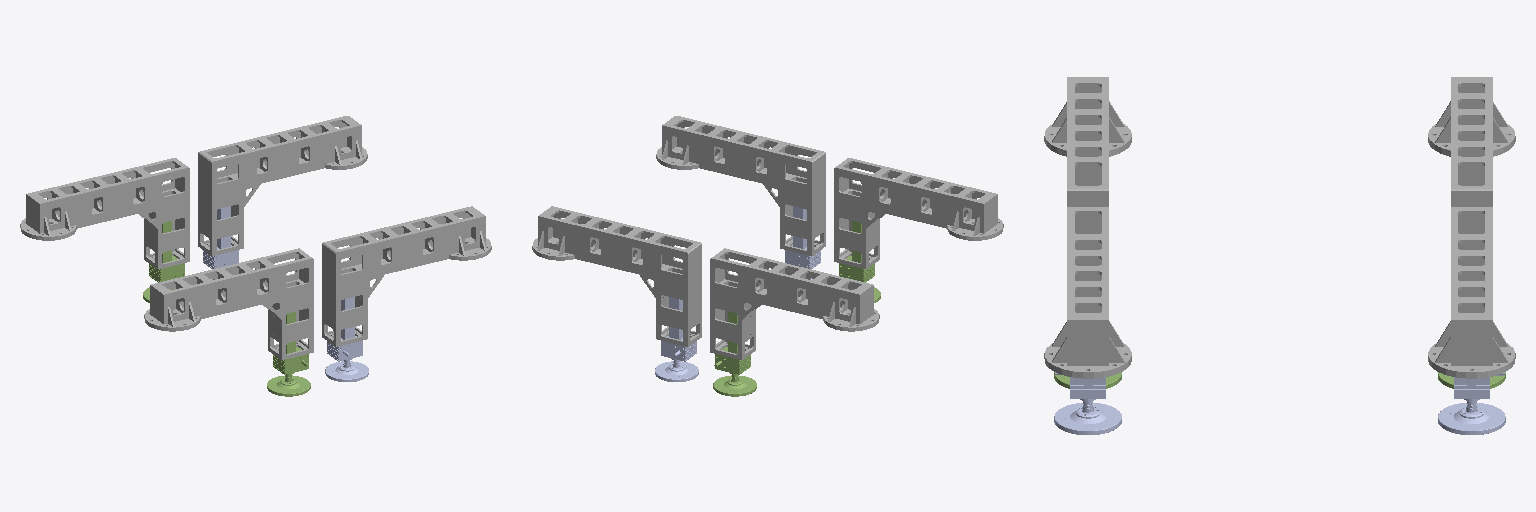
The robot description file, URDF, robot "legs":
<?xml version="1.0" encoding="utf-8"?>
<!-- This URDF was automatically created by SolidWorks to URDF Exporter! Originally created by [author] ([email redacted]) 
     Commit Version: 1.6.0-4-g7f85cfe  Build Version: 1.6.7995.38578
     For more information, please see http://wiki.ros.org/sw_urdf_exporter -->
<robot
  name="legs">
  
<link
    name="base_link">
    <inertial>
      <origin
        xyz="-0.0149529928295683 -4.94322252418334E-06 0.222184832094901"
        rpy="0 0 0" />
      <mass
        value="519.383596577394" />
      <inertia
        ixx="110.386178303131"
        ixy="-0.0315927825227971"
        ixz="-0.0344955769853279"
        iyy="133.908938189479"
        iyz="0.000418959728531496"
        izz="239.374249509396" />
    </inertial>
    <visual>
      <origin
        xyz="0 0 0"
        rpy="0 0 0" />
      <geometry>
        <mesh
          filename="package://legs/meshes/base_link.STL" />
      </geometry>
      <material
        name="">
        <color
          rgba="0.776470588235294 0.756862745098039 0.737254901960784 1" />
      </material>
    </visual>
    <collision>
      <origin
        xyz="0 0 0"
        rpy="0 0 0" />
      <geometry>
        <mesh
          filename="package://legs/meshes/base_link.STL" />
      </geometry>
    </collision>
  </link>
  
<link
    name="front_left_leg_link">
    <inertial>
      <origin
        xyz="0.32094 0 0.034985"
        rpy="0 0 0" />
      <mass
        value="60.511" />
      <inertia
        ixx="0.40429"
        ixy="6.821E-16"
        ixz="0.26264"
        iyy="2.5946"
        iyz="-4.813E-16"
        izz="2.3511" />
    </inertial>
    <visual>
      <origin
        xyz="0 0 0"
        rpy="0 0 0" />
      <geometry>
        <mesh
          filename="package://legs/meshes/front_left_leg_link.STL" />
      </geometry>
      <material
        name="">
        <color
          rgba="0.75294 0.75294 0.75294 1" />
      </material>
    </visual>
    <collision>
      <origin
        xyz="0 0 0"
        rpy="0 0 0" />
      <geometry>
        <mesh
          filename="package://legs/meshes/front_left_leg_link.STL" />
      </geometry>
    </collision>
  </link>
  <joint
    name="front_left_leg_joint"
    type="revolute">
    <origin
      xyz="0.765 0.565 0.44022"
      rpy="0 0 3.1416" />
    <parent
      link="base_link" />
    <child
      link="front_left_leg_link" />
    <axis
      xyz="0 0 -1" />
    <limit
      lower="0"
      upper="0"
      effort="0"
      velocity="0" />
  </joint>
  
<link
    name="foot_1_link">
    <inertial>
      <origin
        xyz="-0.00011337 0.0019926 -0.056864"
        rpy="0 0 0" />
      <mass
        value="6.1757" />
      <inertia
        ixx="0.022142"
        ixy="2.5594E-05"
        ixz="2.6775E-05"
        iyy="0.021666"
        iyz="-0.00046942"
        izz="0.022007" />
    </inertial>
    <visual>
      <origin
        xyz="0 0 0"
        rpy="0 0 0" />
      <geometry>
        <mesh
          filename="package://legs/meshes/foot_1_link.STL" />
      </geometry>
      <material
        name="">
        <color
          rgba="0.79216 0.81961 0.93333 1" />
      </material>
    </visual>
    <collision>
      <origin
        xyz="0 0 0"
        rpy="0 0 0" />
      <geometry>
        <mesh
          filename="package://legs/meshes/foot_1_link.STL" />
      </geometry>
    </collision>
  </link>
  <joint
    name="foot_1_joint"
    type="fixed">
    <origin
      xyz="0.6115 0 -0.4835"
      rpy="-3.1416 0 1.5708" />
    <parent
      link="front_left_leg_link" />
    <child
      link="foot_1_link" />
    <axis
      xyz="0 0 0" />
  </joint>
  
<link
    name="front_right_leg_link">
    <inertial>
      <origin
        xyz="0.320943732035819 1.11022302462516E-16 0.0349852046777499"
        rpy="0 0 0" />
      <mass
        value="60.511050499483" />
      <inertia
        ixx="0.404285007076848"
        ixy="6.3097142068649E-16"
        ixz="0.262642500441646"
        iyy="2.59463508208987"
        iyz="-2.6694781753163E-16"
        izz="2.35111382763765" />
    </inertial>
    <visual>
      <origin
        xyz="0 0 0"
        rpy="0 0 0" />
      <geometry>
        <mesh
          filename="package://legs/meshes/front_right_leg_link.STL" />
      </geometry>
      <material
        name="">
        <color
          rgba="0.752941176470588 0.752941176470588 0.752941176470588 1" />
      </material>
    </visual>
    <collision>
      <origin
        xyz="0 0 0"
        rpy="0 0 0" />
      <geometry>
        <mesh
          filename="package://legs/meshes/front_right_leg_link.STL" />
      </geometry>
    </collision>
  </link>
  <joint
    name="front_right_leg_joint"
    type="revolute">
    <origin
      xyz="0.765 -0.565 0.44022"
      rpy="0 0 3.1416" />
    <parent
      link="base_link" />
    <child
      link="front_right_leg_link" />
    <axis
      xyz="0 0 -1" />
    <limit
      lower="0"
      upper="0"
      effort="0"
      velocity="0" />
  </joint>
  
<link
    name="foot_2_link">
    <inertial>
      <origin
        xyz="0.000109885359919293 0.00199030442674109 -0.0568593956323489"
        rpy="0 0 0" />
      <mass
        value="6.17537867913467" />
      <inertia
        ixx="0.0221414167969365"
        ixy="-2.48142019142283E-05"
        ixz="-2.58391885668568E-05"
        iyy="0.0216642635526054"
        iyz="-0.000468899134997834"
        izz="0.0220052308237161" />
    </inertial>
    <visual>
      <origin
        xyz="0 0 0"
        rpy="0 0 0" />
      <geometry>
        <mesh
          filename="package://legs/meshes/foot_2_link.STL" />
      </geometry>
      <material
        name="">
        <color
          rgba="0.792156862745098 0.819607843137255 0.933333333333333 1" />
      </material>
    </visual>
    <collision>
      <origin
        xyz="0 0 0"
        rpy="0 0 0" />
      <geometry>
        <mesh
          filename="package://legs/meshes/foot_2_link.STL" />
      </geometry>
    </collision>
  </link>
  <joint
    name="foot_2_joint"
    type="fixed">
    <origin
      xyz="0.6115 0 -0.4835"
      rpy="3.1416 0 1.5708" />
    <parent
      link="front_right_leg_link" />
    <child
      link="foot_2_link" />
    <axis
      xyz="0 0 0" />
  </joint>
  
<link
    name="back_left_leg_link">
    <inertial>
      <origin
        xyz="0.320943732035819 -1.11022302462516E-16 0.0349852046777496"
        rpy="0 0 0" />
      <mass
        value="60.511050499483" />
      <inertia
        ixx="0.404285007076847"
        ixy="2.19636477560839E-16"
        ixz="0.262642500441646"
        iyy="2.59463508208987"
        iyz="-3.13597282038453E-16"
        izz="2.35111382763765" />
    </inertial>
    <visual>
      <origin
        xyz="0 0 0"
        rpy="0 0 0" />
      <geometry>
        <mesh
          filename="package://legs/meshes/back_left_leg_link.STL" />
      </geometry>
      <material
        name="">
        <color
          rgba="0.752941176470588 0.752941176470588 0.752941176470588 1" />
      </material>
    </visual>
    <collision>
      <origin
        xyz="0 0 0"
        rpy="0 0 0" />
      <geometry>
        <mesh
          filename="package://legs/meshes/back_left_leg_link.STL" />
      </geometry>
    </collision>
  </link>
  <joint
    name="back_left_leg_joint"
    type="revolute">
    <origin
      xyz="-0.765 0.565 0.44022"
      rpy="0 0 0" />
    <parent
      link="base_link" />
    <child
      link="back_left_leg_link" />
    <axis
      xyz="0 0 -1" />
    <limit
      lower="0"
      upper="0"
      effort="0"
      velocity="0" />
  </joint>
  
<link
    name="foot_3_link">
    <inertial>
      <origin
        xyz="-0.000109885359919293 -0.00199030442674086 -0.0568593956323489"
        rpy="0 0 0" />
      <mass
        value="6.17537867913468" />
      <inertia
        ixx="0.0221414167969365"
        ixy="-2.48142019142294E-05"
        ixz="2.58391885668548E-05"
        iyy="0.0216642635526054"
        iyz="0.000468899134997833"
        izz="0.0220052308237161" />
    </inertial>
    <visual>
      <origin
        xyz="0 0 0"
        rpy="0 0 0" />
      <geometry>
        <mesh
          filename="package://legs/meshes/foot_3_link.STL" />
      </geometry>
      <material
        name="">
        <color
          rgba="0.627450980392157 0.76078431372549 0.486274509803922 1" />
      </material>
    </visual>
    <collision>
      <origin
        xyz="0 0 0"
        rpy="0 0 0" />
      <geometry>
        <mesh
          filename="package://legs/meshes/foot_3_link.STL" />
      </geometry>
    </collision>
  </link>
  <joint
    name="foot_3_joint"
    type="fixed">
    <origin
      xyz="0.6115 0 -0.4835"
      rpy="-3.1416 0 -1.5708" />
    <parent
      link="back_left_leg_link" />
    <child
      link="foot_3_link" />
    <axis
      xyz="0 0 0" />
  </joint>
  
<link
    name="back_right_leg_link">
    <inertial>
      <origin
        xyz="0.320943732035819 3.33066907387547E-16 0.0349852046777498"
        rpy="0 0 0" />
      <mass
        value="60.5110504994829" />
      <inertia
        ixx="0.404285007076846"
        ixy="5.03913365572231E-16"
        ixz="0.262642500441645"
        iyy="2.59463508208987"
        iyz="-4.2883548419521E-16"
        izz="2.35111382763765" />
    </inertial>
    <visual>
      <origin
        xyz="0 0 0"
        rpy="0 0 0" />
      <geometry>
        <mesh
          filename="package://legs/meshes/back_right_leg_link.STL" />
      </geometry>
      <material
        name="">
        <color
          rgba="0.752941176470588 0.752941176470588 0.752941176470588 1" />
      </material>
    </visual>
    <collision>
      <origin
        xyz="0 0 0"
        rpy="0 0 0" />
      <geometry>
        <mesh
          filename="package://legs/meshes/back_right_leg_link.STL" />
      </geometry>
    </collision>
  </link>
  <joint
    name="back_right_leg_joint"
    type="revolute">
    <origin
      xyz="-0.765 -0.565 0.44022"
      rpy="0 0 0" />
    <parent
      link="base_link" />
    <child
      link="back_right_leg_link" />
    <axis
      xyz="0 0 -1" />
    <limit
      lower="0"
      upper="0"
      effort="0"
      velocity="0" />
  </joint>
  
<link
    name="foot_4_link">
    <inertial>
      <origin
        xyz="0.000113369387689466 -0.00199263681937056 -0.0568635134712805"
        rpy="0 0 0" />
      <mass
        value="6.17571382002205" />
      <inertia
        ixx="0.0221423967043914"
        ixy="2.55940450176833E-05"
        ixz="-2.6774694363258E-05"
        iyy="0.0216664032151359"
        iyz="0.000469423465065298"
        izz="0.022007095816631" />
    </inertial>
    <visual>
      <origin
        xyz="0 0 0"
        rpy="0 0 0" />
      <geometry>
        <mesh
          filename="package://legs/meshes/foot_4_link.STL" />
      </geometry>
      <material
        name="">
        <color
          rgba="0.627450980392157 0.76078431372549 0.486274509803922 1" />
      </material>
    </visual>
    <collision>
      <origin
        xyz="0 0 0"
        rpy="0 0 0" />
      <geometry>
        <mesh
          filename="package://legs/meshes/foot_4_link.STL" />
      </geometry>
    </collision>
  </link>
  <joint
    name="foot_4_joint"
    type="fixed">
    <origin
      xyz="0.6115 0 -0.4835"
      rpy="3.1416 0 -1.5708" />
    <parent
      link="back_right_leg_link" />
    <child
      link="foot_4_link" />
    <axis
      xyz="0 0 0" />
  </joint>
</robot>

--- Facts derived from the render (not from the file) ---
Views: 3 orthographic renders of the robot side by side, from view 1: azimuth 30°, elevation 25°; view 2: azimuth 150°, elevation 25°; view 3: azimuth 270°, elevation 25°.
Model legs with 9 links and 8 joints (4 revolute, 4 fixed), rooted at base_link, posed all joints at 0.
Visible links, largest first — view 1: front_right_leg_link, front_left_leg_link, back_left_leg_link, back_right_leg_link, foot_2_link, foot_4_link, foot_3_link, foot_1_link; view 2: front_left_leg_link, front_right_leg_link, back_right_leg_link, back_left_leg_link, foot_1_link, foot_3_link, foot_4_link, foot_2_link; view 3: front_right_leg_link, front_left_leg_link, back_left_leg_link, back_right_leg_link, foot_1_link, foot_2_link.
Boxes of the visible links, x1,y1,x2,y2 form: front_right_leg_link: [322, 206, 491, 346]; front_left_leg_link: [198, 116, 367, 255]; back_left_leg_link: [20, 158, 189, 269]; back_right_leg_link: [144, 248, 313, 359]; foot_2_link: [325, 297, 368, 381]; foot_4_link: [267, 311, 310, 396]; foot_3_link: [143, 221, 184, 302]; foot_1_link: [203, 206, 238, 279]; front_left_leg_link: [532, 206, 701, 346]; front_right_leg_link: [656, 116, 825, 255]; back_right_leg_link: [834, 158, 1003, 269]; back_left_leg_link: [710, 248, 879, 359]; foot_1_link: [655, 297, 698, 381]; foot_3_link: [713, 311, 756, 396]; foot_4_link: [839, 221, 880, 302]; foot_2_link: [785, 206, 820, 279]; front_right_leg_link: [1044, 207, 1131, 378]; front_left_leg_link: [1428, 207, 1515, 378]; back_left_leg_link: [1428, 77, 1515, 206]; back_right_leg_link: [1044, 77, 1131, 206]; foot_1_link: [1438, 372, 1505, 434]; foot_2_link: [1054, 372, 1121, 434].
Bounding box of the posed robot: 1.79 × 1.39 × 0.6535 m (x, y, z).
8 mesh visuals loaded from 9 distinct referenced files (8 binary STL); not drawn: 1 (reference not matched to a file when rendering).